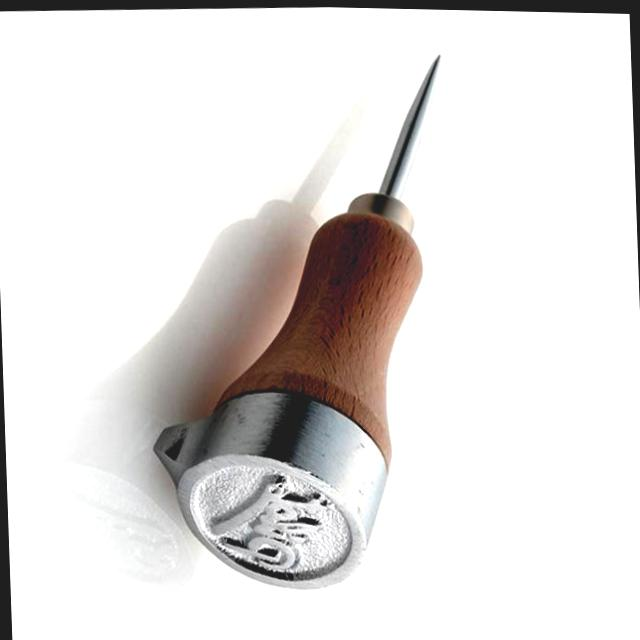ice pick: (137, 45, 461, 600)
